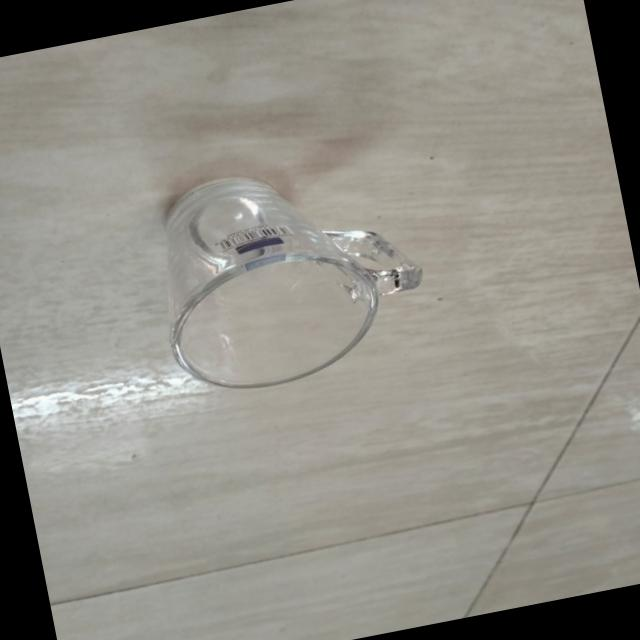glass-VX4N: (133, 143, 436, 410)
